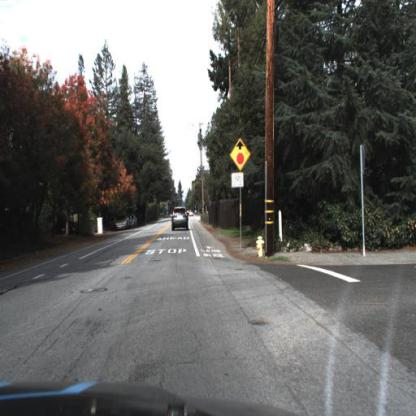car: (170, 204, 192, 235), (114, 211, 130, 233)
